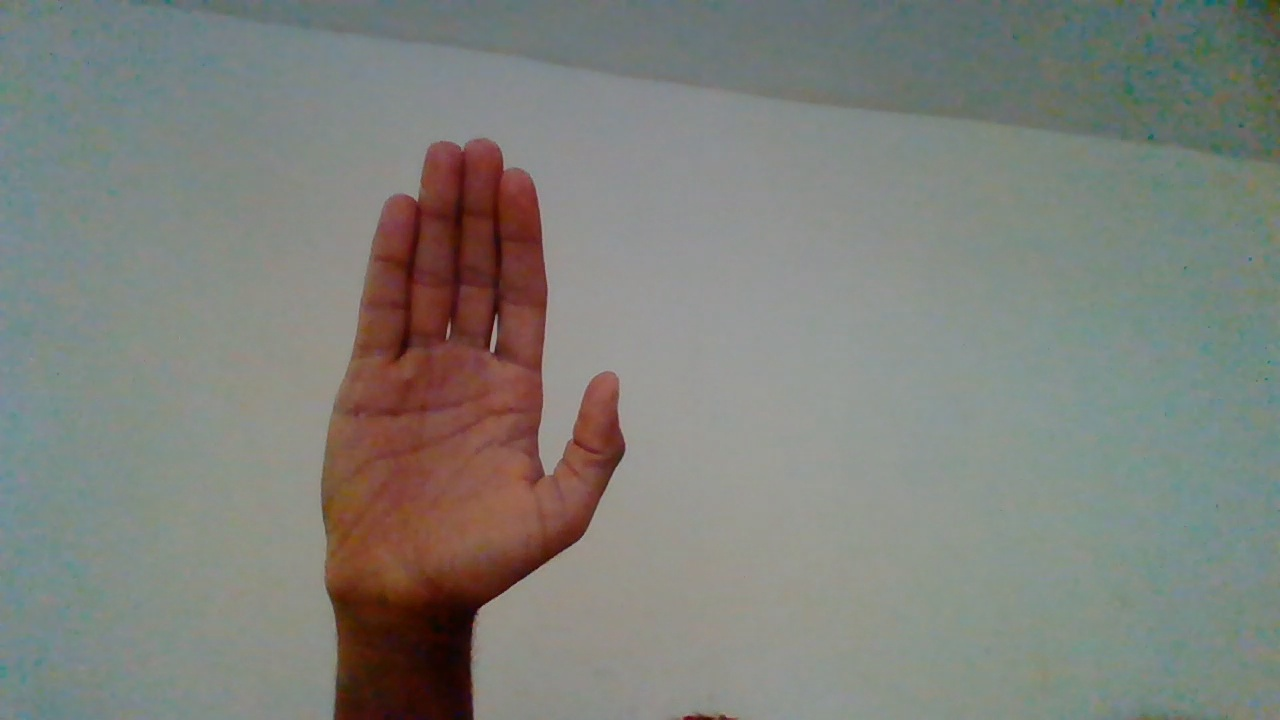ha: (320, 136, 629, 695)
